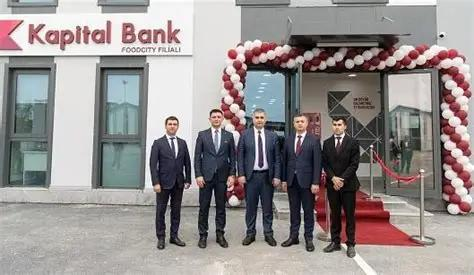Kapital Bank: (0, 18, 23, 52)
